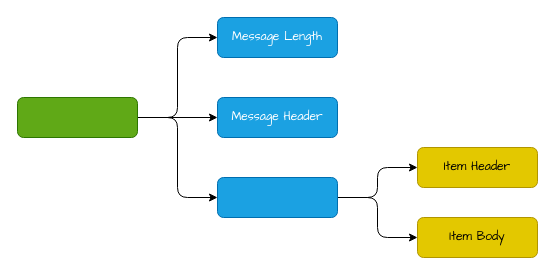
The diagram is 555 pixels wide and 275 high, and some of its shapes have lost their labels. The centre of each missing label's shape, as x and y in pixels:
"HSMS Message" belongs at [77,117].
"Message Text" belongs at [277,197].
